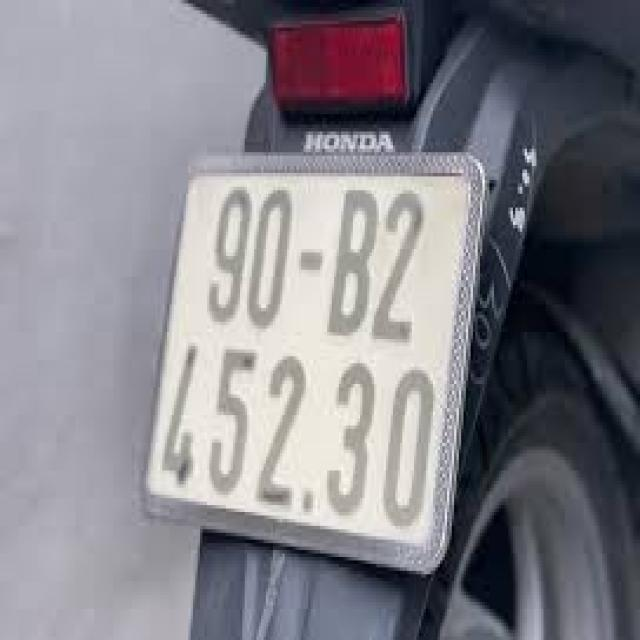a: (155, 143, 489, 573)
bien so: (166, 151, 453, 566), (189, 153, 209, 215)
